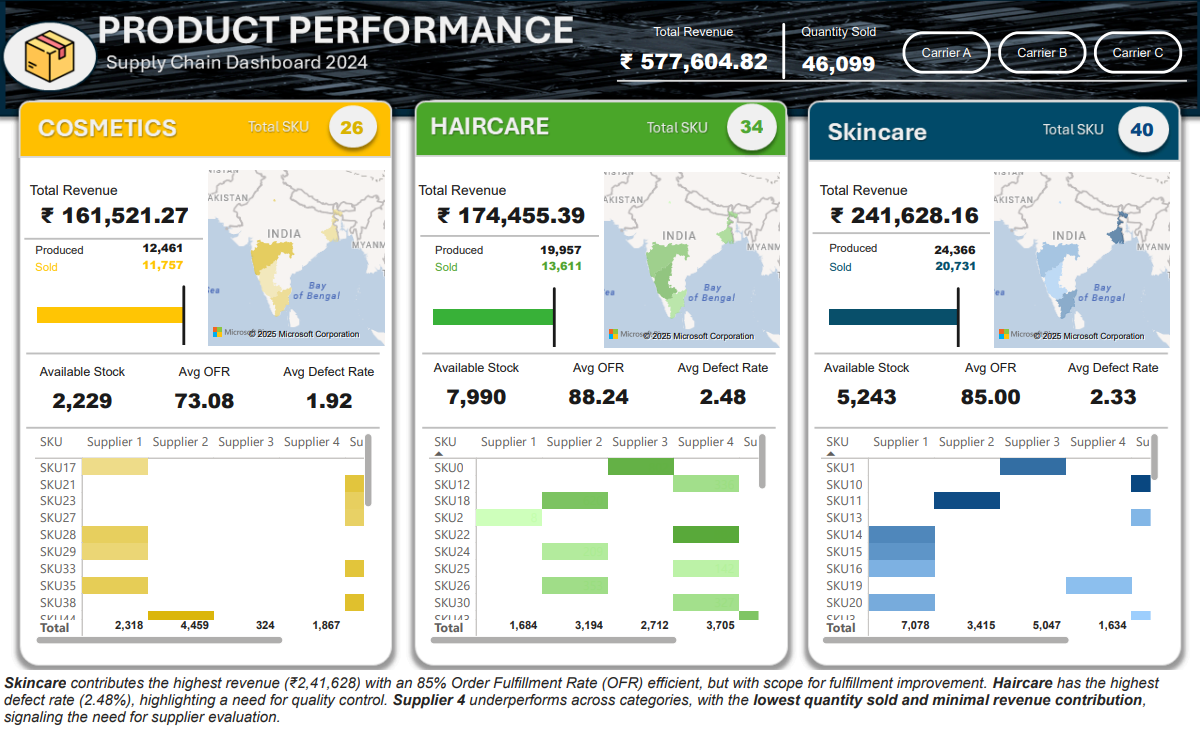

This screenshot's page, from the dashboard's own definition file:
{"tool":"powerbi","page":{"name":"Product Performance","canvas":[1280,780],"ordinal":0},"visuals":[{"type":"image","box":[0,0,1280.6,719.4],"z":0},{"type":"card","title":"Total Revenue","fields":{"Values":["_Measure.Total_revenue"]},"box":[635.9,25.9,208.6,70],"z":1000},{"type":"shape","box":[800,23.6,72.7,60],"z":2000},{"type":"card","title":"Quantity Sold","fields":{"Values":["_Measure.Total_quantity_sold"]},"box":[827.3,25.9,134.3,70],"z":3000},{"type":"card","title":"Total Revenue","fields":{"Values":["_Measure.Cosmetics_revenue"]},"box":[27.9,194.3,190.7,58.6],"z":4000},{"type":"card","title":"Total Revenue","fields":{"Values":["_Measure.Haircare_revenue"]},"box":[442.5,193.8,207.5,58.8],"z":5000},{"type":"card","title":"Total Revenue","fields":{"Values":["_Measure.Skincare_revenue"]},"box":[869.2,193.8,190,58.5],"z":6000},{"type":"card","title":"Quantity Sold","fields":{"Values":["_Measure.Cosmetics_produced"]},"box":[145.7,252.1,57.9,25.7],"z":7000},{"type":"card","title":"Quantity Sold","fields":{"Values":["_Measure.Cosmetics_quantity_sold"]},"box":[145.7,270,57.9,25.7],"z":8000},{"type":"textbox","box":[34.9,255.1,74.3,20],"z":9000},{"type":"textbox","box":[34.9,273,74.3,20],"z":10000},{"type":"card","title":"Quantity Sold","fields":{"Values":["_Measure.Haircare_produced"]},"box":[569.8,253.4,57.9,25.7],"z":11000},{"type":"card","title":"Quantity Sold","fields":{"Values":["_Measure.Haircare_quantity_sold"]},"box":[571.5,270.8,56.2,23.8],"z":12000},{"type":"textbox","box":[459.2,255.4,73.8,20],"z":13000},{"type":"textbox","box":[459.2,273.1,73.8,20],"z":14000},{"type":"card","title":"Quantity Sold","fields":{"Values":["_Measure.Skincare_produced"]},"box":[990.2,253.5,57.9,25.7],"z":15000},{"type":"card","title":"Quantity Sold","fields":{"Values":["_Measure.Skincare_quantity_sold"]},"box":[992,270.9,56.2,23.8],"z":16000},{"type":"textbox","box":[880,253.1,73.8,20],"z":17000},{"type":"textbox","box":[880,273.1,73.8,20],"z":18000},{"type":"card","title":"Available Stock","fields":{"Values":["_Measure.Cosmetics_available_stock"]},"box":[33.5,388,110,68.8],"z":19000},{"type":"card","title":"Avg OFR","fields":{"Values":["_Measure.Cosmetics_order_fulfillment_rate"]},"box":[146,388,146.2,68.8],"z":20000},{"type":"card","title":"Avg Defect Rate","fields":{"Values":["_Measure.Cosmetics_defect_rate_avg"]},"box":[297.2,388,107.5,68.8],"z":21000},{"type":"barChart","fields":{"Y":["_Measure.Cosmetics_quantity_sold","_Measure.Cosmetics_produced"]},"box":[35,291.7,341.7,80],"z":22000},{"type":"barChart","fields":{"Y":["_Measure.Haircare_quantity_sold","_Measure.Haircare_produced"]},"box":[457.5,293.8,341.2,80],"z":23000},{"type":"barChart","fields":{"Y":["_Measure.Skincare_quantity_sold","_Measure.Skincare_produced"]},"box":[880,293.8,341.2,80],"z":24000},{"type":"card","title":"Available Stock","fields":{"Values":["_Measure.Haircare_available_stock"]},"box":[453.3,384.6,110,68.8],"z":25000},{"type":"card","title":"Avg OFR","fields":{"Values":["_Measure.Haircare_order_fulfillment_rate"]},"box":[565.5,384.4,146.2,68.8],"z":26000},{"type":"card","title":"Avg Defect Rate","fields":{"Values":["_Measure.Haircare_defect_rate_avg"]},"box":[717,384.6,107.5,68.8],"z":27000},{"type":"card","title":"Available Stock","fields":{"Values":["_Measure.Skincare_available_stock"]},"box":[870.2,383.7,110,68.8],"z":28000},{"type":"card","title":"Avg OFR","fields":{"Values":["_Measure.Skincare_order_fulfillment_rate"]},"box":[984.2,383.2,146.2,68.8],"z":29000},{"type":"card","title":"Avg Defect Rate","fields":{"Values":["_Measure.Skincare_defect_rate_avg"]},"box":[1134.2,383.2,107.5,68.8],"z":30000},{"type":"card","title":"Total Revenue","fields":{"Values":["_Measure.Cosmetics_SKU"]},"box":[352.9,117.1,48.6,38.6],"z":31000},{"type":"card","title":"Total Revenue","fields":{"Values":["_Measure.Skincare_SKU"]},"box":[1194.3,120,48.6,38.6],"z":32000},{"type":"card","title":"Total Revenue","fields":{"Values":["_Measure.Haircare_SKU"]},"box":[777.1,118.6,48.6,35.7],"z":33000},{"type":"pivotTable","fields":{"Rows":["supply_chain_data.SKU"],"Columns":["supply_chain_data.Supplier name"],"Values":["_Measure.Cosmetics_quantity_sold"]},"box":[33.8,456.3,369,235.2],"z":34000},{"type":"pivotTable","fields":{"Rows":["supply_chain_data.SKU"],"Columns":["supply_chain_data.Supplier name"],"Values":["_Measure.Haircare_quantity_sold"]},"box":[454.9,456.3,369,235.2],"z":35000},{"type":"pivotTable","fields":{"Rows":["supply_chain_data.SKU"],"Columns":["supply_chain_data.Supplier name"],"Values":["_Measure.Skincare_quantity_sold"]},"box":[871.8,456.3,369,235.2],"z":36000},{"type":"filledMap","fields":{"Category":["supply_chain_data.State"]},"box":[640,177.2,196.9,196.9],"z":37000},{"type":"filledMap","fields":{"Category":["supply_chain_data.State"]},"box":[1056,177.2,196.9,196.9],"z":38000},{"type":"filledMap","fields":{"Category":["supply_chain_data.State"]},"box":[218.3,176.7,198.3,196.7],"z":39000},{"type":"advancedSlicerVisual","fields":{"Values":["supply_chain_data.Shipping carriers"]},"box":[958.7,27.3,308.6,55.7],"z":40000},{"type":"textbox","box":[0,714.9,1280,65.1],"z":41000}]}

Visuals, with their boxes in screenshot pixels (x1, y1, x2, y2), scaled from the page's 1280x780 canvas onto the 1200x740 screenshot:
image: 0:0:1199:683
"Total Revenue" card: 596:25:792:91
shape: 750:22:818:79
"Quantity Sold" card: 776:25:901:91
"Total Revenue" card: 26:184:205:240
"Total Revenue" card: 415:184:609:240
"Total Revenue" card: 815:184:993:239
"Quantity Sold" card: 137:239:191:264
"Quantity Sold" card: 137:256:191:281
textbox: 33:242:102:261
textbox: 33:259:102:278
"Quantity Sold" card: 534:240:588:265
"Quantity Sold" card: 536:257:588:279
textbox: 430:242:500:261
textbox: 430:259:500:278
"Quantity Sold" card: 928:240:983:265
"Quantity Sold" card: 930:257:983:280
textbox: 825:240:894:259
textbox: 825:259:894:278
"Available Stock" card: 31:368:135:433
"Avg OFR" card: 137:368:274:433
"Avg Defect Rate" card: 279:368:379:433
barChart - _Measure.Cosmetics_quantity_sold x _Measure.Cosmetics_produced: 33:277:353:353
barChart - _Measure.Haircare_quantity_sold x _Measure.Haircare_produced: 429:279:749:355
barChart - _Measure.Skincare_quantity_sold x _Measure.Skincare_produced: 825:279:1145:355
"Available Stock" card: 425:365:528:430
"Avg OFR" card: 530:365:667:430
"Avg Defect Rate" card: 672:365:773:430
"Available Stock" card: 816:364:919:429
"Avg OFR" card: 923:364:1060:429
"Avg Defect Rate" card: 1063:364:1164:429
"Total Revenue" card: 331:111:376:148
"Total Revenue" card: 1120:114:1165:150
"Total Revenue" card: 729:113:774:146
pivotTable - supply_chain_data.SKU x supply_chain_data.Supplier name: 32:433:378:656
pivotTable - supply_chain_data.SKU x supply_chain_data.Supplier name: 426:433:772:656
pivotTable - supply_chain_data.SKU x supply_chain_data.Supplier name: 817:433:1163:656
filledMap - supply_chain_data.State: 600:168:785:355
filledMap - supply_chain_data.State: 990:168:1175:355
filledMap - supply_chain_data.State: 205:168:391:354
advancedSlicerVisual - supply_chain_data.Shipping carriers: 899:26:1188:79
textbox: 0:678:1199:739
